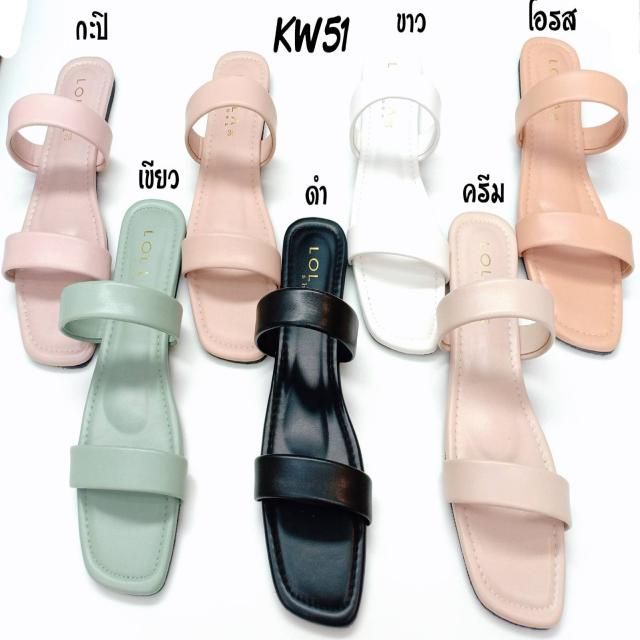cream: (449, 214, 566, 623)
green: (74, 191, 186, 597)
kapi: (13, 54, 114, 373)
nood: (188, 53, 283, 360)
orot: (509, 36, 626, 354)
white: (346, 52, 450, 359)
